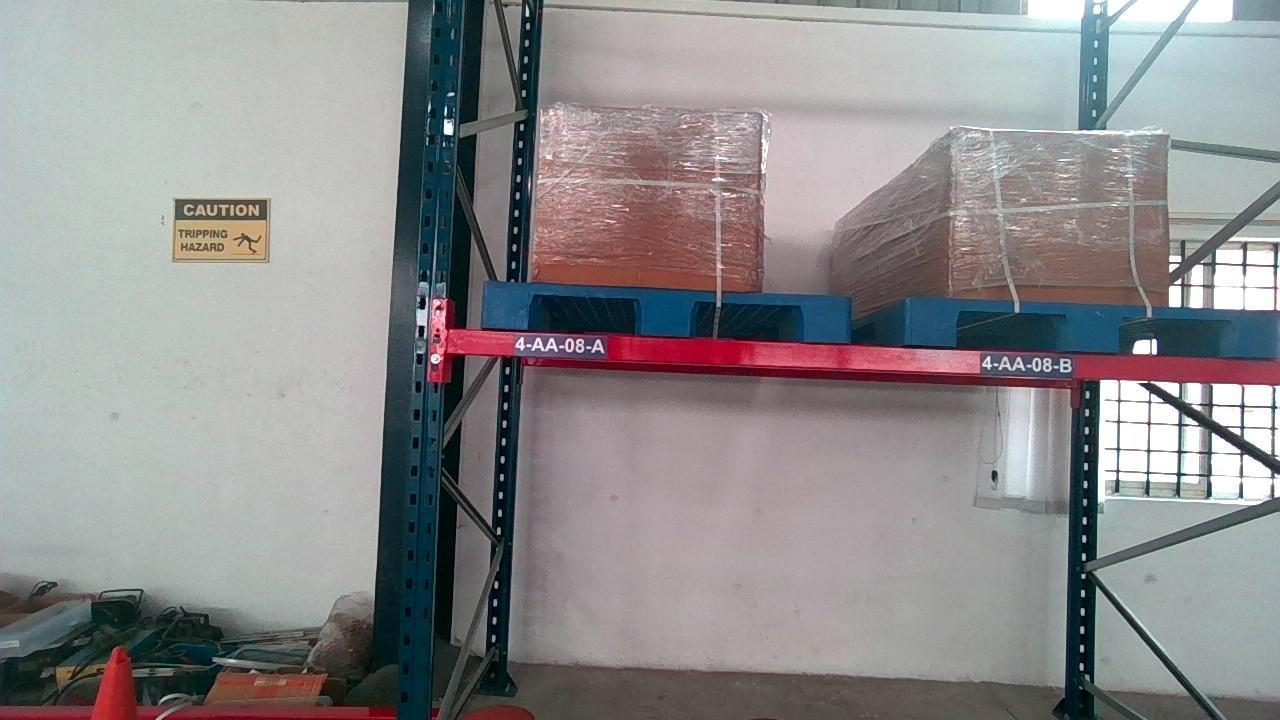h_rack: (443, 328, 1280, 381)
small_pallet: (481, 286, 847, 336), (908, 301, 1272, 351)
